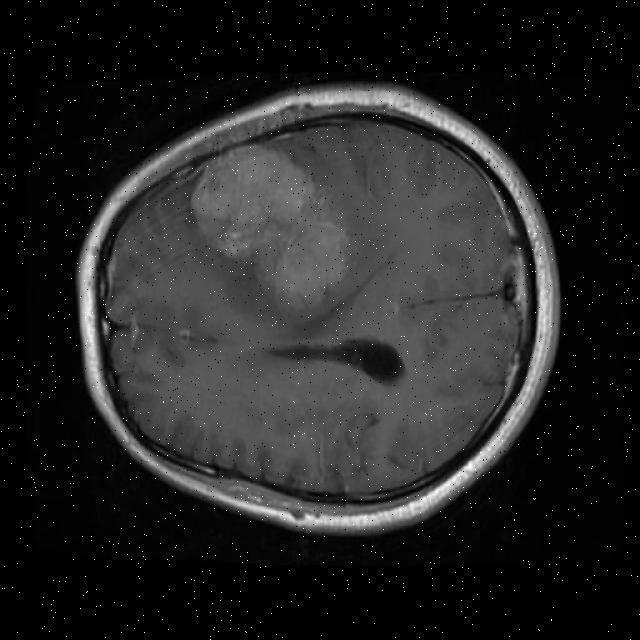Meningioma: (191, 145, 347, 316)
